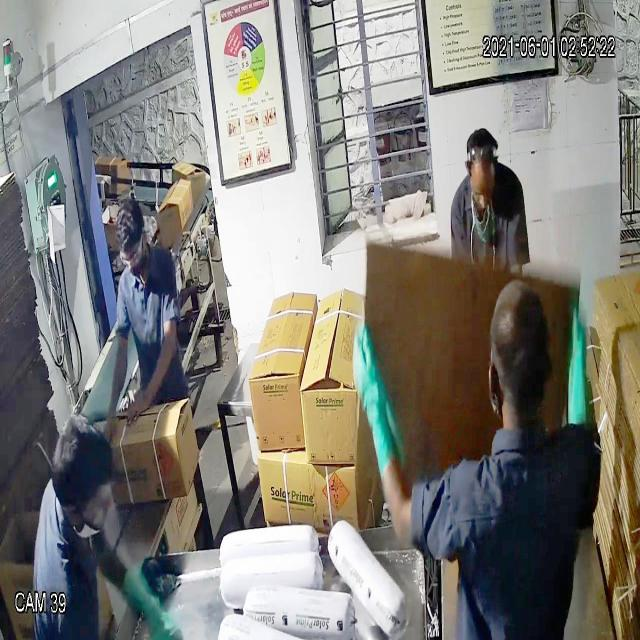glasses: (119, 237, 148, 271)
